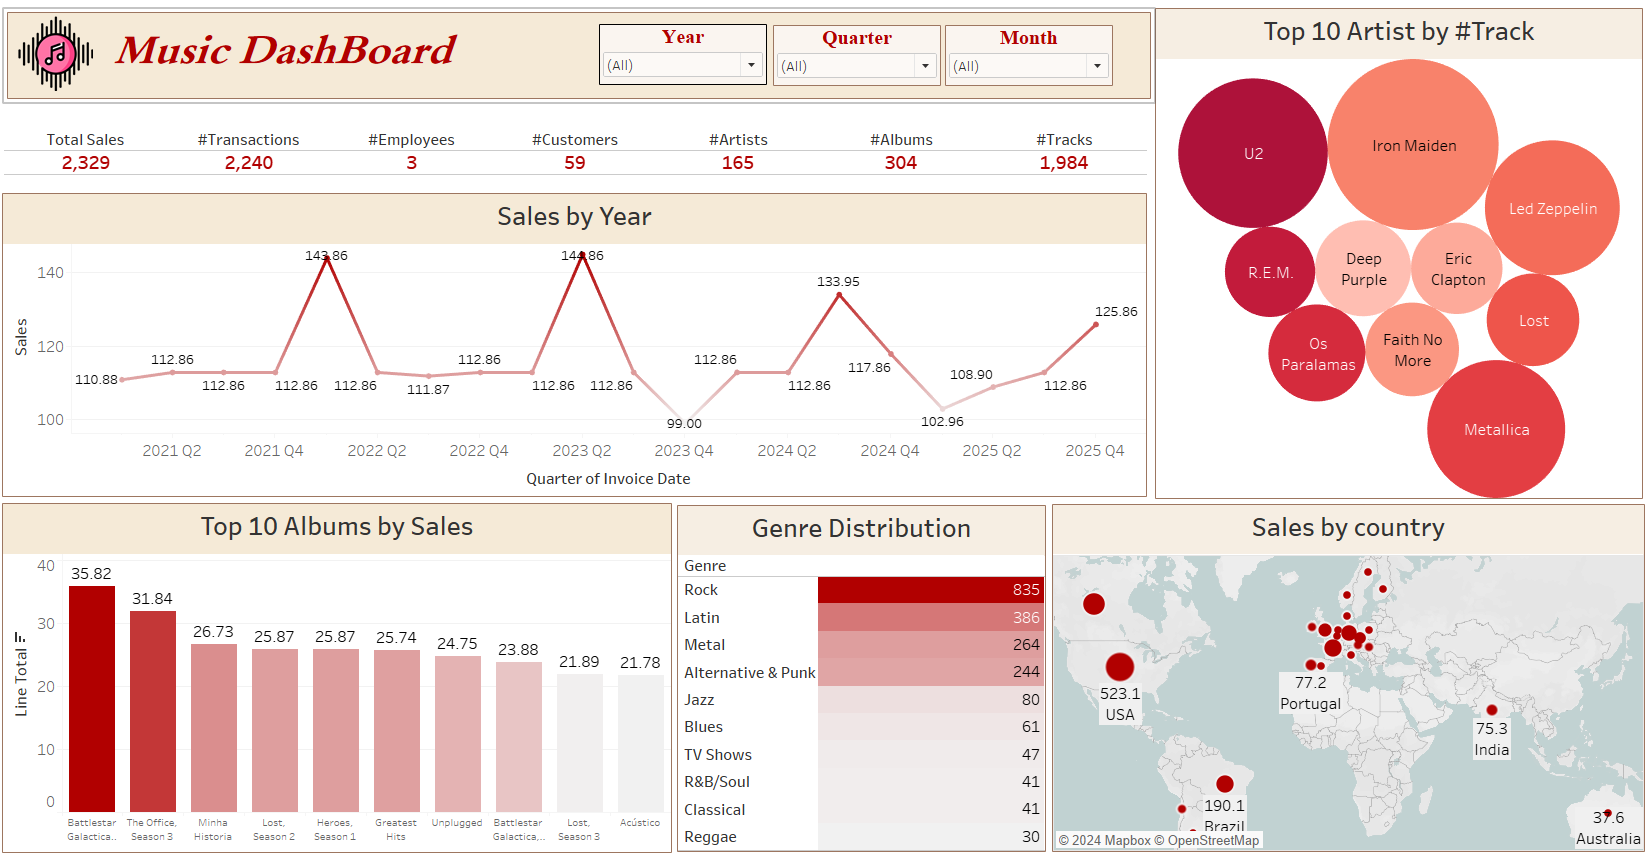

This screenshot's page, from the dashboard's own definition file:
{"tool":"tableau","page":{"name":"Dashboard 1","canvas":[1000,1000],"units":"permille","ordinal":0},"visuals":[{"type":"worksheet","title":"Top 10 Artist by #Track","mark":"Circle","box":[698.2,11.6,294.5,570.3]},{"type":"text","box":[3.6,12.8,694,108]},{"type":"image","param":"E:/cources/NTI data analysis/Final Project/music_2402463 (1).png","box":[12.1,20.9,45.3,90.6]},{"type":"filter","title":"Top 10 Albums by Sales","param":"[federated.0zpxbvq0688zsu13je2it1mc38q8].[yr:Invoice_Date (DimDate):ok]","box":[362.7,30.2,101.4,70.9]},{"type":"filter","title":"Top 10 Albums by Sales","param":"[federated.0zpxbvq0688zsu13je2it1mc38q8].[qr:Invoice_Date (DimDate):ok]","box":[467.7,31.4,101.4,70.9]},{"type":"filter","title":"Top 10 Albums by Sales","param":"[federated.0zpxbvq0688zsu13je2it1mc38q8].[mn:Invoice_Date (DimDate):ok]","box":[571.5,31.4,101.4,70.9]},{"type":"worksheet","title":"Cards","mark":"Automatic","box":[3.7,130.1,689.9,109.2]},{"type":"worksheet","title":"Sales by Year","mark":"Automatic","rows":["Line_Total"],"cols":["Invoice_Date"],"box":[2.4,226.5,691,353.1]},{"type":"worksheet","title":"Top 10 Albums by Sales","mark":"Automatic","rows":["Line_Total"],"cols":["Album_Title"],"box":[2.4,586.5,404.4,406.5]},{"type":"worksheet","title":"Sales by country","mark":"Automatic","box":[636.1,587.7,357.8,404.2]},{"type":"worksheet","title":"Genre Distribution","mark":"Square","rows":["Genre"],"box":[409.8,588.9,222.7,403]}]}

Visuals, with their boxes on the dashboard's canvas, which has no fixed pixel size, in thousandths of its width and height (x1, y1, x2, y2). These are canvas units, not pixel positions in the 1651x856 screenshot, which may show the page scaled, cropped or inside an application window:
"Top 10 Artist by #Track" worksheet (Circle marks): box(698, 12, 993, 582)
text: box(4, 13, 698, 121)
image: box(12, 21, 57, 112)
"Top 10 Albums by Sales" filter: box(363, 30, 464, 101)
"Top 10 Albums by Sales" filter: box(468, 31, 569, 102)
"Top 10 Albums by Sales" filter: box(572, 31, 673, 102)
"Cards" worksheet: box(4, 130, 694, 239)
"Sales by Year" worksheet: box(2, 226, 693, 580)
"Top 10 Albums by Sales" worksheet: box(2, 586, 407, 993)
"Sales by country" worksheet: box(636, 588, 994, 992)
"Genre Distribution" worksheet (Square marks): box(410, 589, 632, 992)
